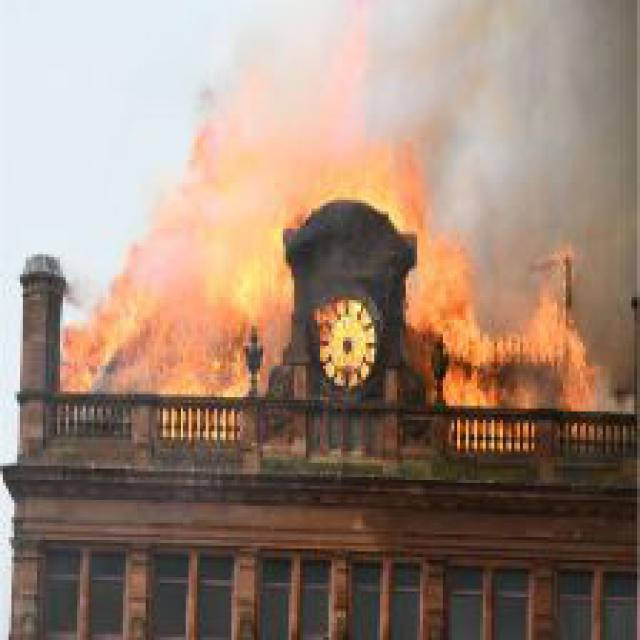fire: (63, 57, 623, 412)
